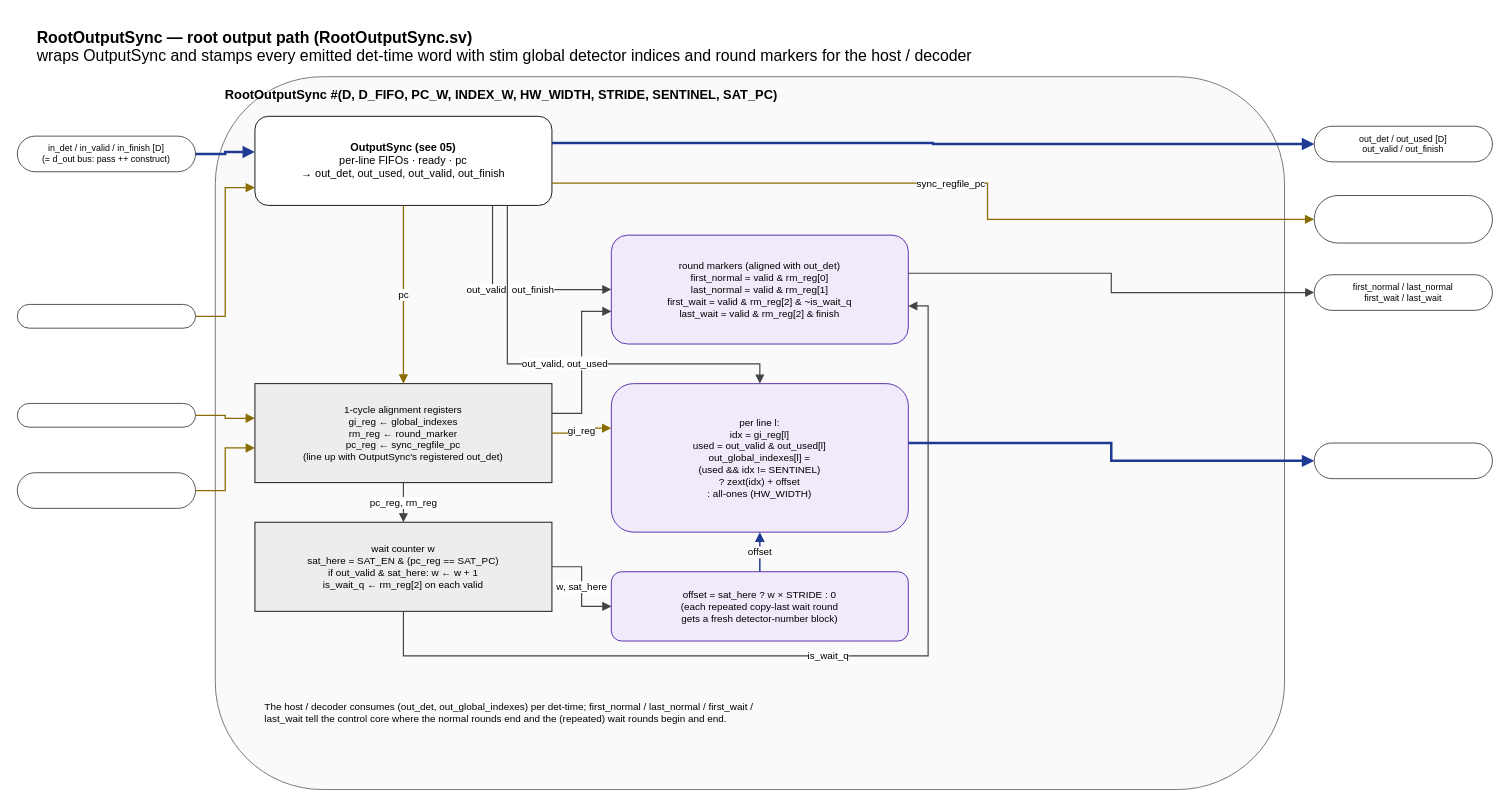
Image size: 1510x807. Some labels were removed from this diagram. Here are the shapes that lost their labels. From the top down, the centre of each, then its label:
point 1402,219: sync_regfile_pc (→ output_sync, global_index, round_marker regfiles)
point 106,315: sync_mask [D] @ pc
point 106,414: global_indexes [D × INDEX_W] @ pc
point 1402,460: out_global_indexes [D × HW_WIDTH]
point 106,490: round_marker [3] @ pc {is_first_normal, is_last_normal, is_wait}
